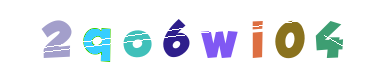0: (250, 0, 330, 80)
2: (63, 0, 143, 80)
4: (266, 0, 346, 80)
6: (155, 0, 235, 80)
I: (219, 0, 299, 80)
O: (136, 0, 216, 80)
Q: (77, 0, 157, 80)
W: (178, 0, 258, 80)
